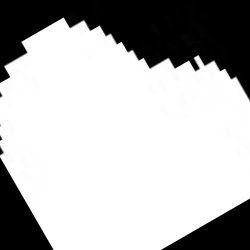spot: (1, 20, 248, 248)
